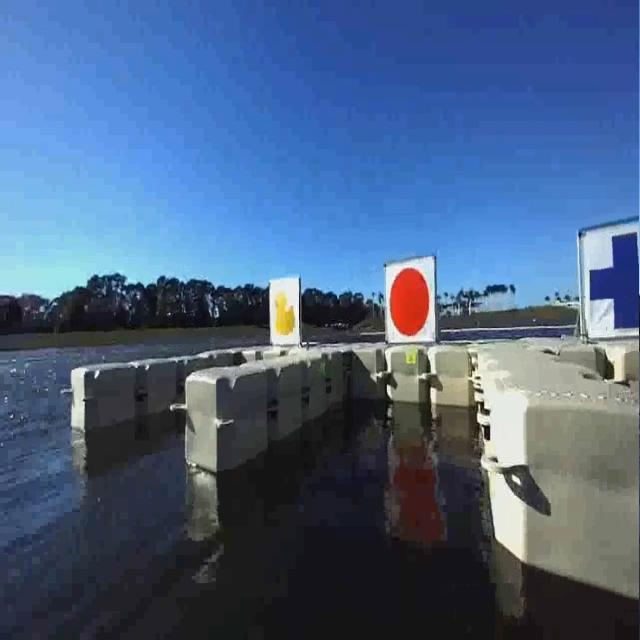blue-cross: (575, 228, 640, 341)
red-dot: (388, 264, 439, 343)
yellow-duck: (270, 277, 301, 338)
